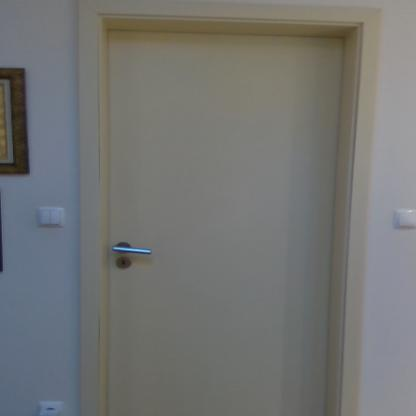door: (102, 28, 334, 416)
lever: (111, 242, 157, 259)
